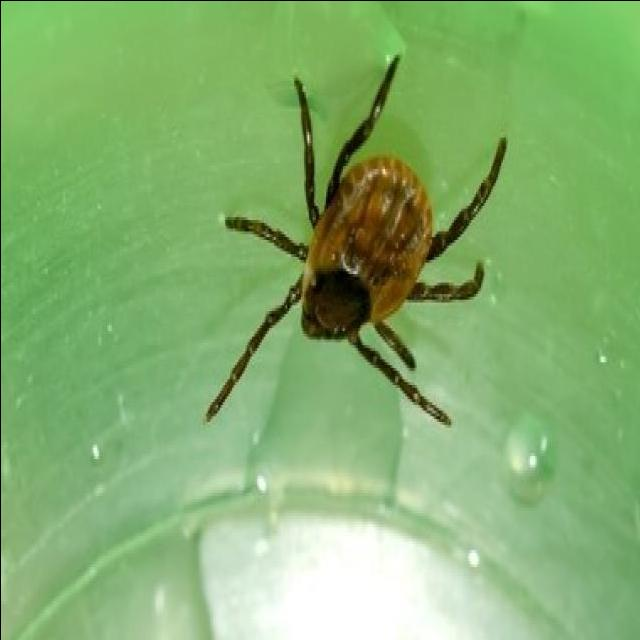Rhipicephalus Sanguineus-F: (204, 54, 505, 424)
